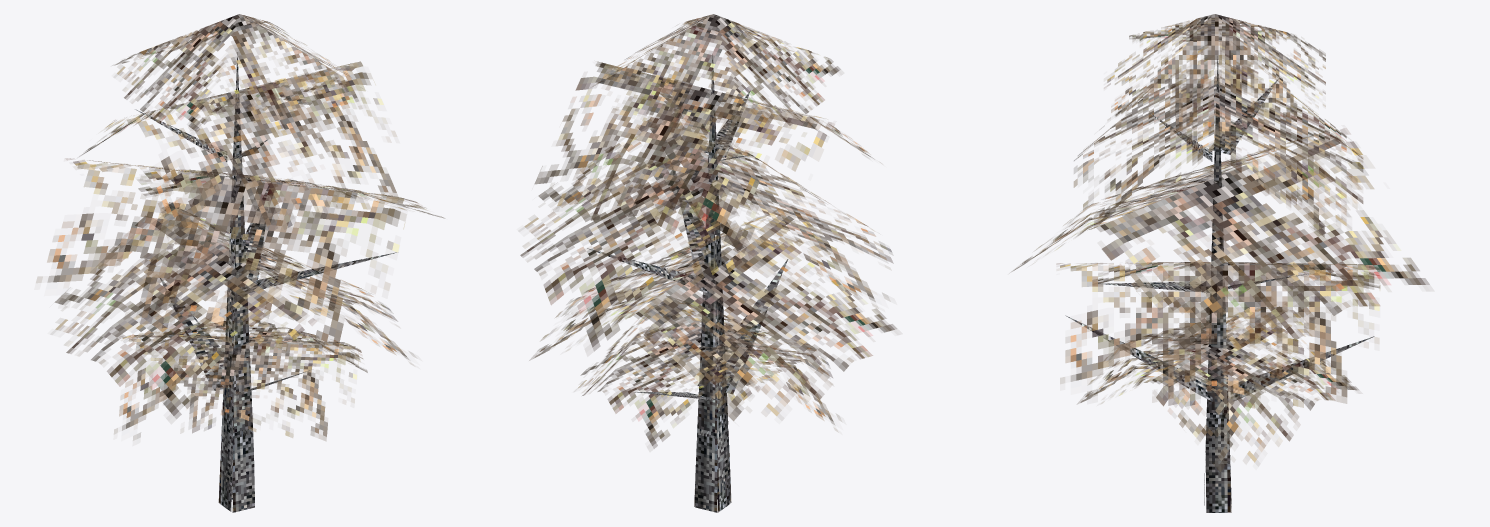
The model's file is Environment - Vegetation - Tree Cherry Blossom 02 - PTOakFall1.glb.
3 views of the same model, side by side, from view 1: azimuth 30°, elevation 25°; view 2: azimuth 150°, elevation 25°; view 3: azimuth 270°, elevation 25° (orthographic).
Visible parts, largest first — view 1: PTOAKFALL1; view 2: PTOAKFALL1; view 3: PTOAKFALL1.
Boxes of the visible parts, x1,y1,x2,y2 form: PTOAKFALL1: (36, 14, 444, 512); PTOAKFALL1: (520, 14, 896, 512); PTOAKFALL1: (1012, 14, 1429, 512).
Bounding box in the file's own units: 34.88 × 37.04 × 34.88.
Materials: 1 (1 with a texture image).
